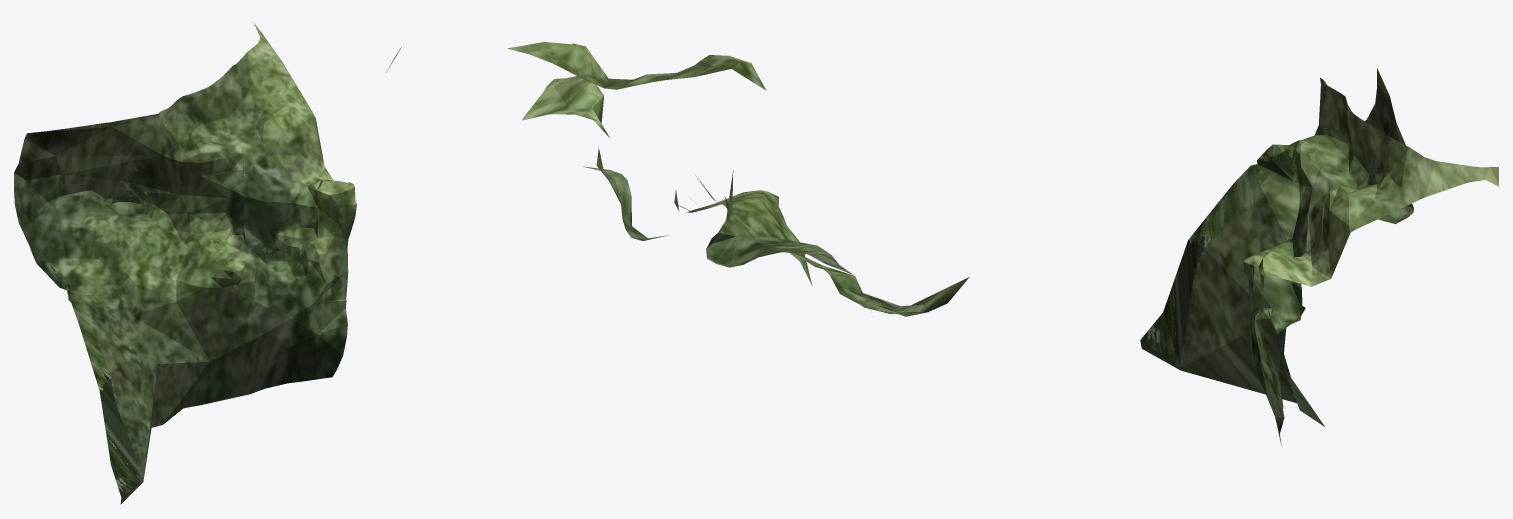
3 renders of one model, left to right at view 1: azimuth 30°, elevation 25°; view 2: azimuth 150°, elevation 25°; view 3: azimuth 270°, elevation 25°, orthographic. The views are drawn at different scales.
Size of the model in its own units: 2.95 by 2.95 by 2.86.
Materials: 3 (3 with a texture image).
